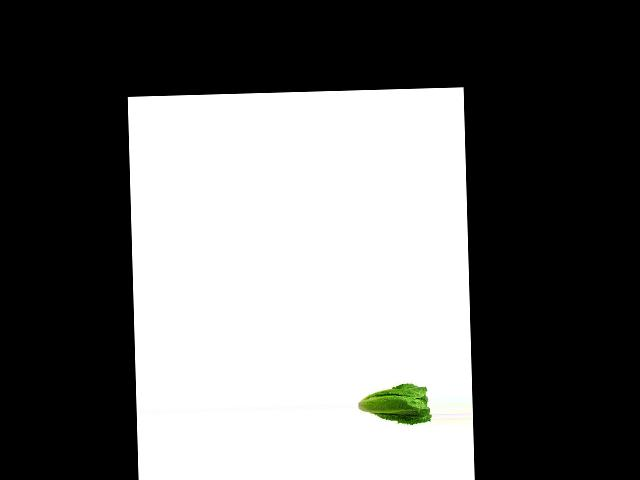lettuce: (358, 377, 431, 428)
